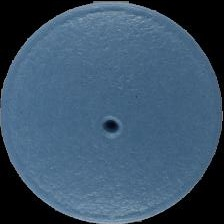59762-0540: (0, 0, 224, 224)
